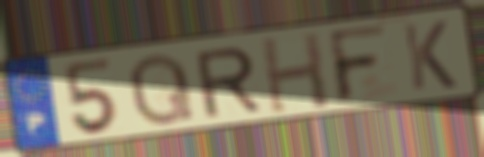5: (59, 56, 121, 139)
F: (324, 21, 391, 108)
H: (257, 29, 333, 116)
K: (399, 18, 460, 93)
Q: (127, 50, 198, 129)
R: (191, 43, 264, 120)
